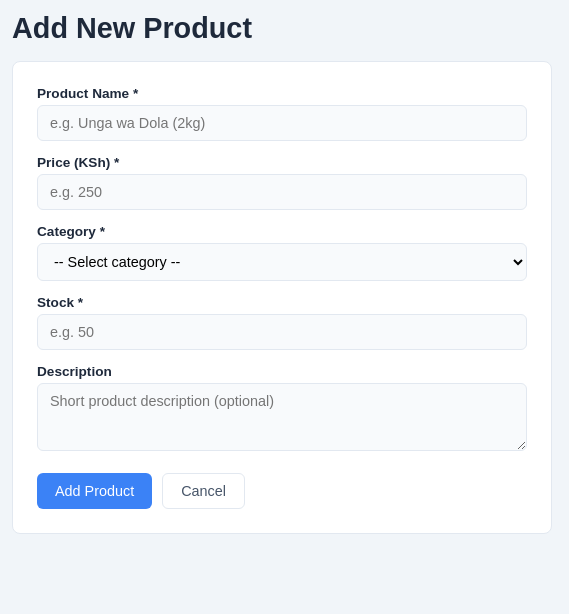
Test: shows error when required fields are empty
This screenshot has width=569, height=614.
Step 1. Click the button "Add Product" → [95, 491], box x1=37 y1=473 x2=152 y2=509
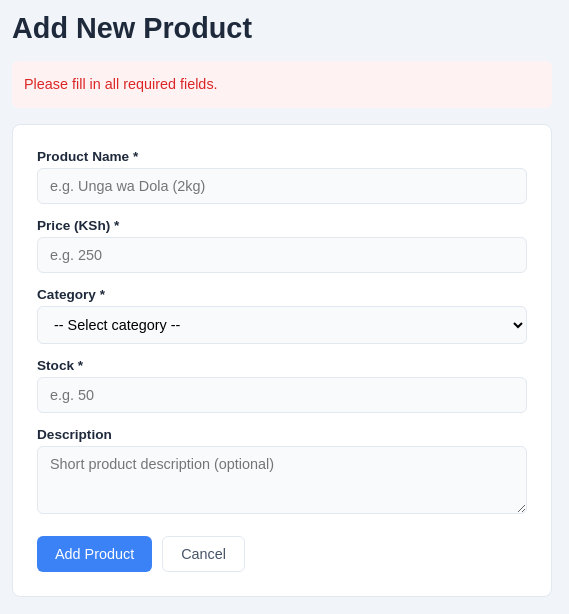
Expected: the text "Please fill in all required fields." is shown, x1=12 y1=61 x2=552 y2=108
